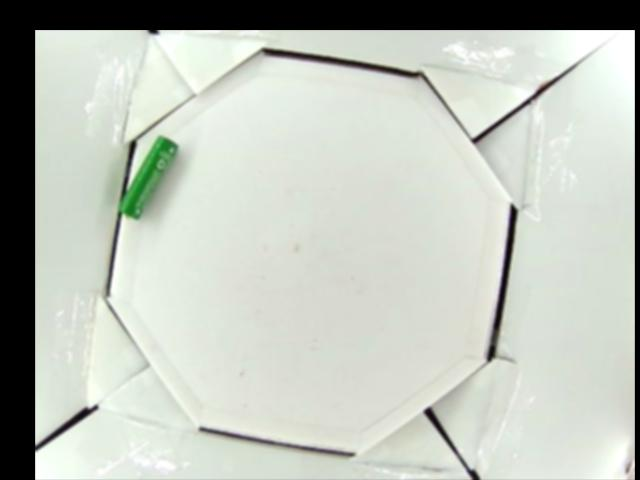Battery: (118, 135, 179, 221)
